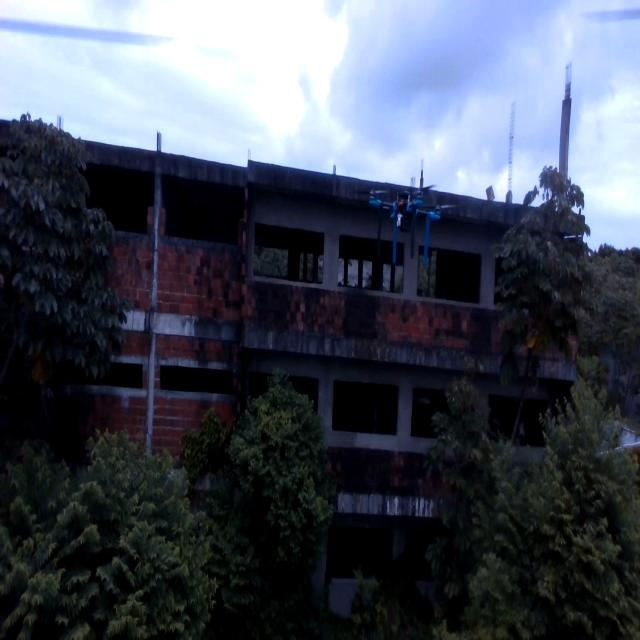-uav-: (352, 154, 464, 282)
